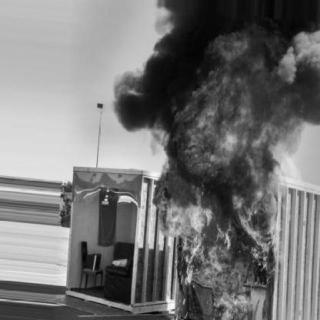Fire: (170, 11, 288, 318)
